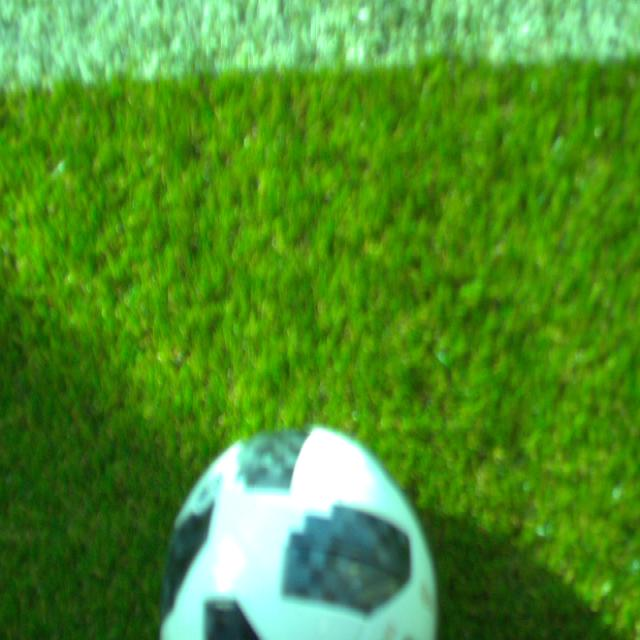ball: (158, 426, 437, 640)
